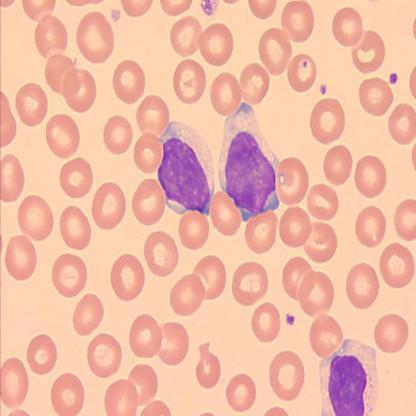Atypical lymphocyte: (159, 100, 283, 217), (319, 339, 375, 415)
